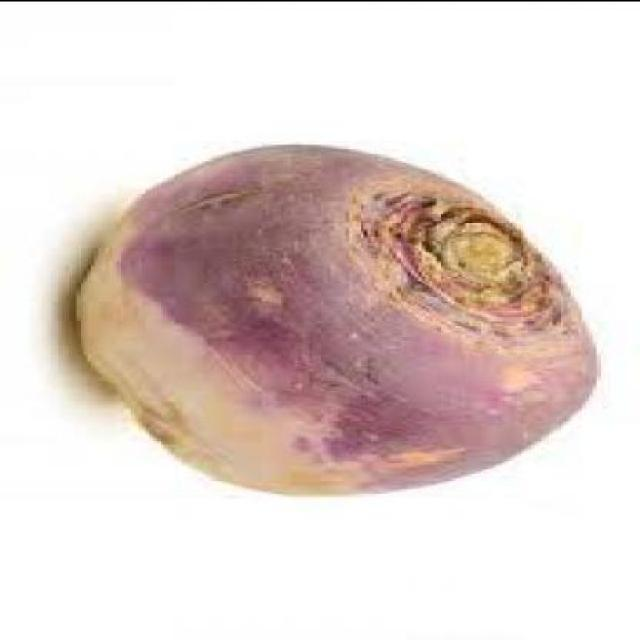BIODEGRADABLE: (80, 146, 603, 497)
